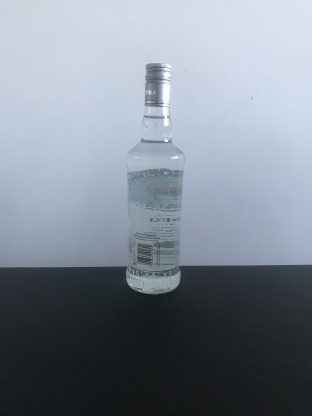nakretka: (143, 60, 172, 109)
